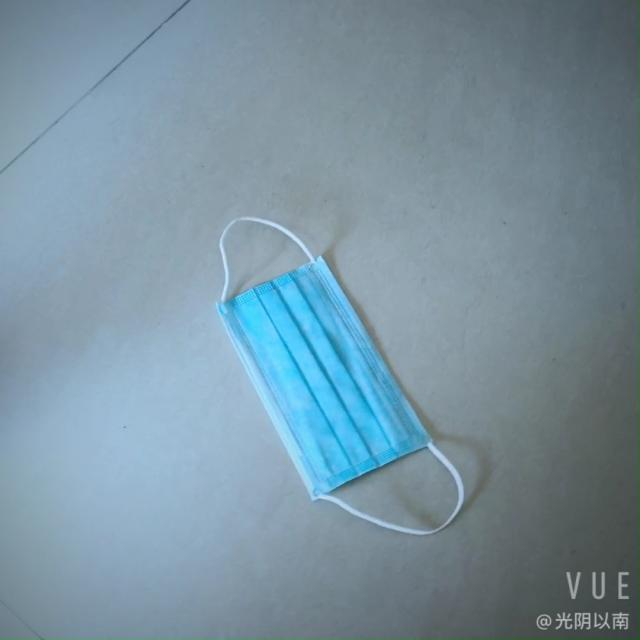non-organic waste: (210, 258, 448, 508)
